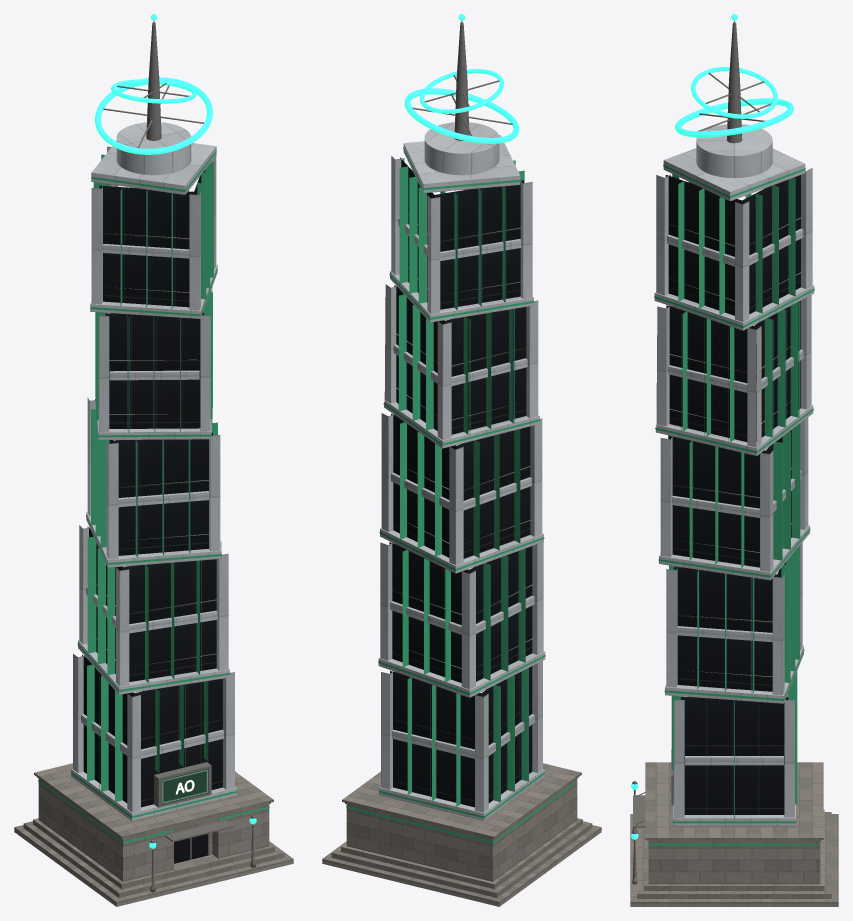
The model's file is autonomous-organizations.glb.
3 views of the same model, side by side, from view 1: azimuth 30°, elevation 25°; view 2: azimuth 150°, elevation 25°; view 3: azimuth 270°, elevation 25° (orthographic).
Visible parts, largest first — view 1: Landmark · Autonomous Organizations; view 2: Landmark · Autonomous Organizations; view 3: Landmark · Autonomous Organizations.
Part boxes in pixels (box(x1,y1,x2,y2)): Landmark · Autonomous Organizations: box(14, 14, 293, 906); Landmark · Autonomous Organizations: box(322, 14, 601, 906); Landmark · Autonomous Organizations: box(630, 14, 838, 906).
Size of the model in its own units: 12 by 54 by 12.
7 materials, 4 textured.
